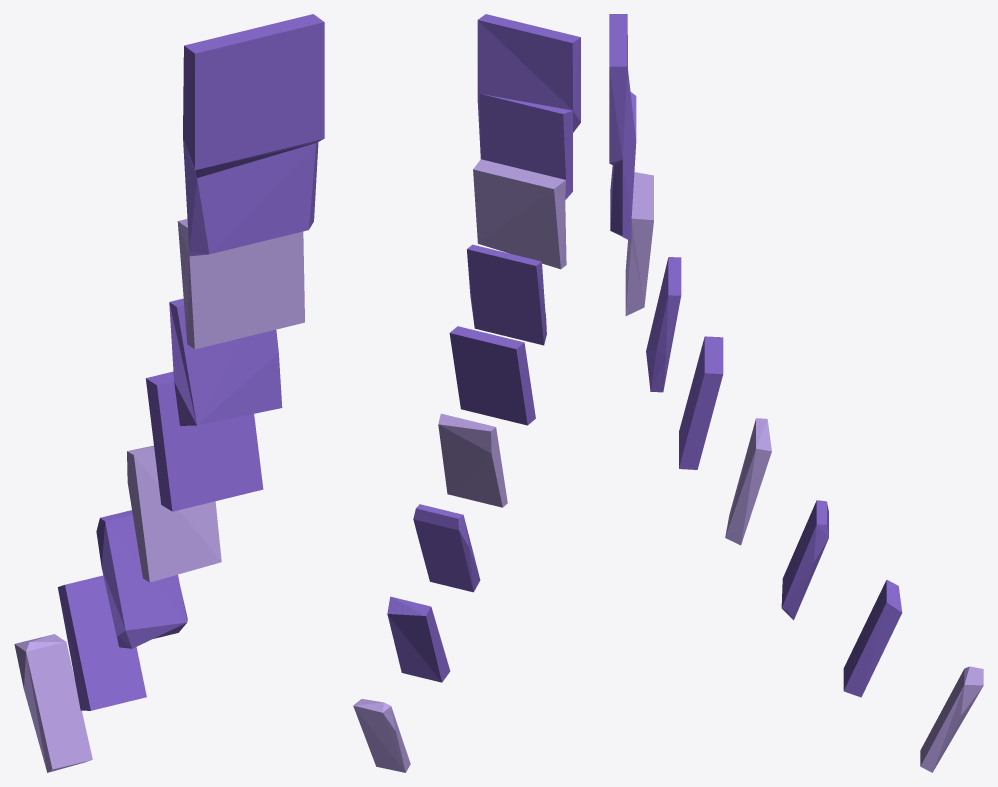
The model's file is spirit_mask_ribbon.glb.
The picture shows the model from 3 angles, left to right: view 1: azimuth 30°, elevation 25°; view 2: azimuth 150°, elevation 25°; view 3: azimuth 270°, elevation 25°; orthographic projection. The views are drawn at different scales.
Visible parts, largest first — view 1: spirit_mask_ribbon; view 2: spirit_mask_ribbon; view 3: spirit_mask_ribbon.
Boxes of the visible parts, left/top/right/bottom form: spirit_mask_ribbon: left=14, top=14, right=324, bottom=772; spirit_mask_ribbon: left=353, top=14, right=580, bottom=772; spirit_mask_ribbon: left=609, top=14, right=983, bottom=772.
Bounding box in the file's own units: 0.1475 × 0.9219 × 0.4319.
